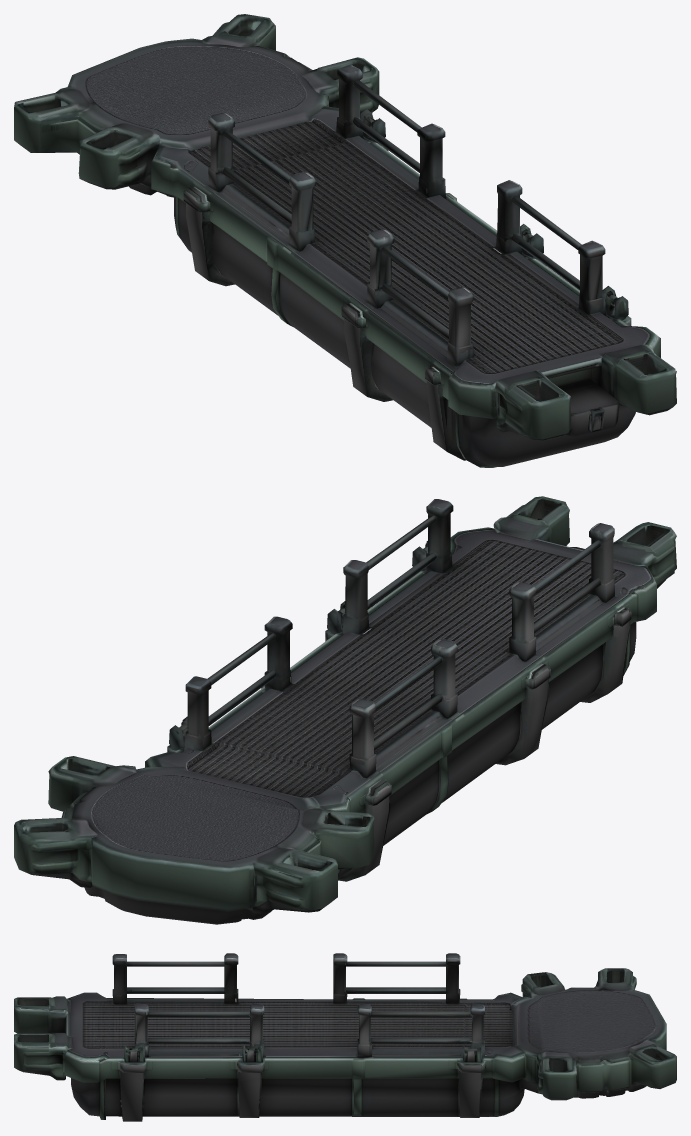
Rendered from modular_03.fbx.
The picture shows the model from 3 angles, top to bottom: view 1: azimuth 30°, elevation 25°; view 2: azimuth 150°, elevation 25°; view 3: azimuth 270°, elevation 25°; orthographic projection. The views are drawn at different scales.
Parts seen in each view (by area): view 1: modular_03; view 2: modular_03; view 3: modular_03.
Boxes of the visible parts, x1,y1,x2,y2 form: modular_03: [14, 14, 676, 467]; modular_03: [14, 496, 676, 924]; modular_03: [14, 953, 676, 1121].
Bounding box in the file's own units: 3.14 × 1.68 × 8.3.
Materials: 1 (1 with a texture image).
